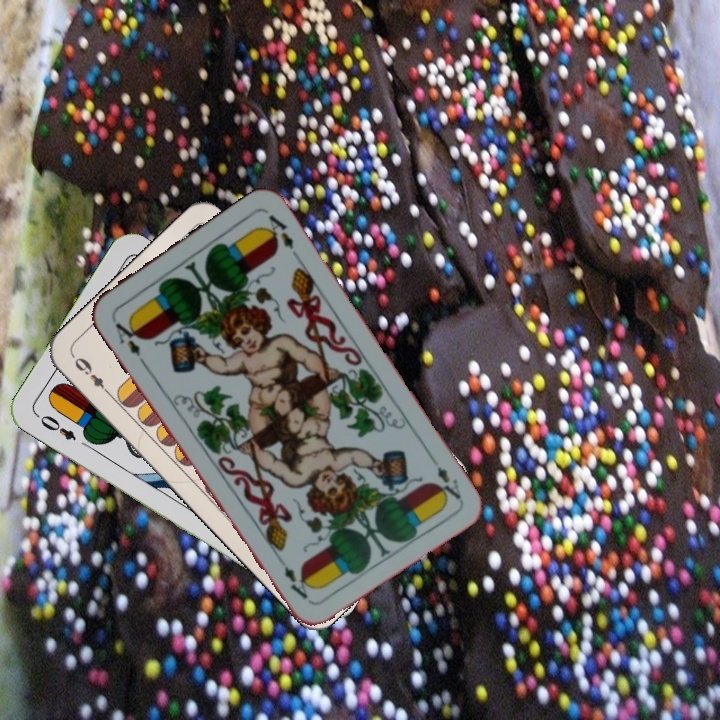E9: (68, 352, 114, 399)
EA: (425, 451, 464, 503), (107, 313, 144, 360)
EO: (32, 409, 79, 443)
